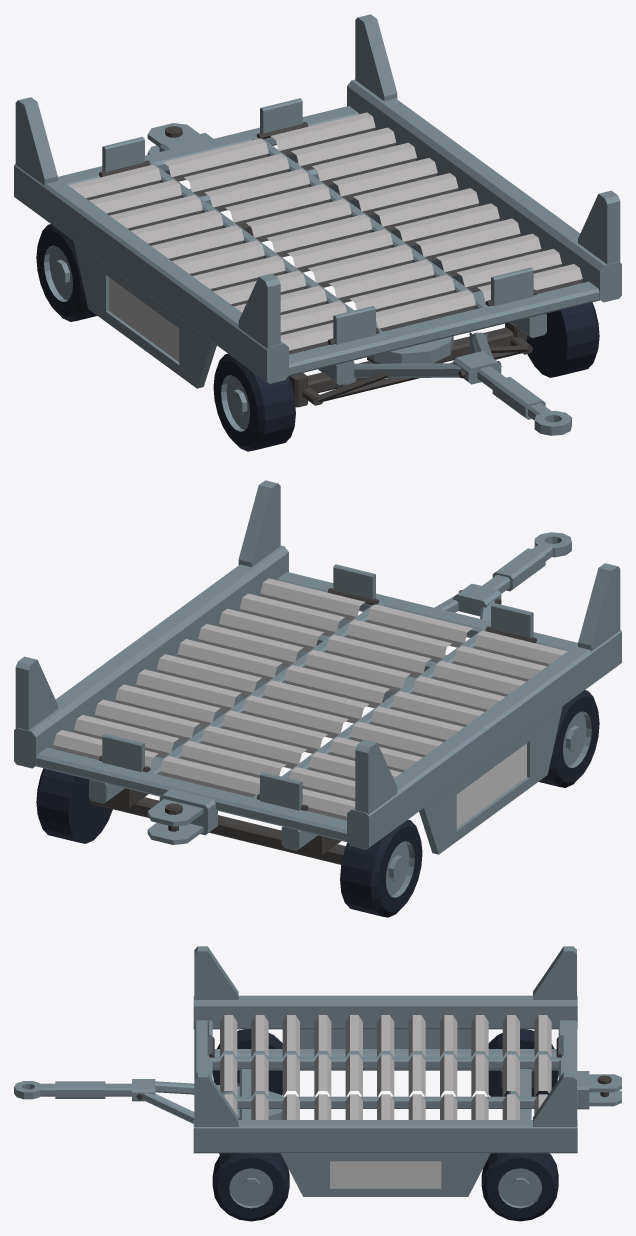
Rendered from container-dolly-0e4b32.glb.
3 renders of one model, top to bottom at view 1: azimuth 30°, elevation 25°; view 2: azimuth 150°, elevation 25°; view 3: azimuth 270°, elevation 25°, orthographic. The views are drawn at different scales.
Parts seen in each view (by area): view 1: body, tyre-fr, tyre-fl, tyre-rr; view 2: body, tyre-rr, tyre-rl, tyre-fr; view 3: body, tyre-fl, tyre-rl, tyre-rr, tyre-fr.
Part boxes in pixels (left/top/right/bottom): body: left=14, top=14, right=621, bottom=435; tyre-fr: left=213, top=353, right=295, bottom=451; tyre-fl: left=527, top=302, right=599, bottom=377; tyre-rr: left=36, top=224, right=97, bottom=321; body: left=14, top=480, right=621, bottom=864; tyre-rr: left=340, top=819, right=422, bottom=917; tyre-rl: left=36, top=768, right=112, bottom=843; tyre-fr: left=538, top=690, right=599, bottom=787; body: left=14, top=946, right=621, bottom=1196; tyre-fl: left=212, top=1153, right=289, bottom=1221; tyre-rl: left=481, top=1153, right=558, bottom=1221; tyre-rr: left=488, top=1029, right=558, bottom=1096; tyre-fr: left=212, top=1029, right=282, bottom=1095.
Size of the model in its own units: 1.62 by 0.85 by 3.16.
